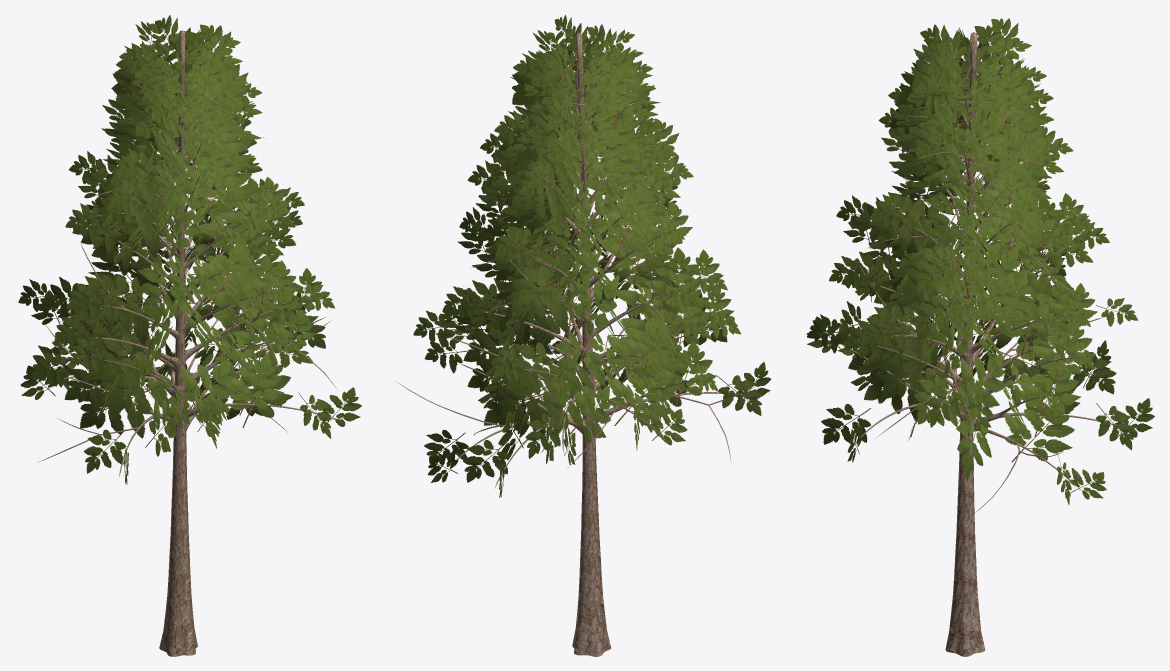
Rendered from BigTree.fbx.
3 views of the same model, side by side, from view 1: azimuth 30°, elevation 25°; view 2: azimuth 150°, elevation 25°; view 3: azimuth 270°, elevation 25° (orthographic).
Visible parts, largest first — view 1: branch01_1, bark02_0; view 2: branch01_1, bark02_0; view 3: branch01_1, bark02_0.
Boxes of the visible parts, x1=… form: branch01_1: x1=18, y1=15, x2=361, y2=484; bark02_0: x1=38, y1=30, x2=341, y2=656; branch01_1: x1=413, y1=15, x2=770, y2=497; bark02_0: x1=395, y1=33, x2=756, y2=656; branch01_1: x1=806, y1=18, x2=1154, y2=504; bark02_0: x1=829, y1=32, x2=1136, y2=656.
Size of the model in its own units: 627 by 1270 by 648.
2 materials, 2 textured.
